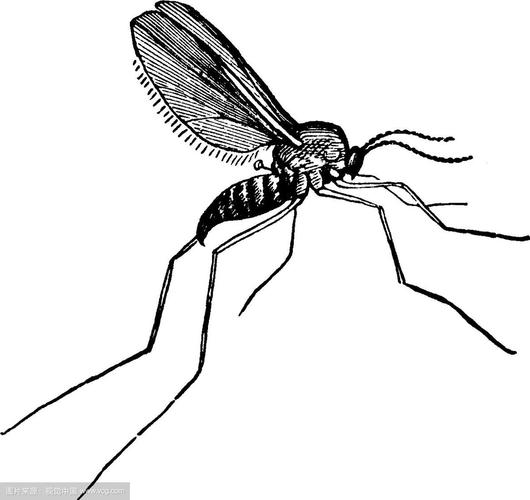Cecidomyiidae: (1, 1, 530, 495)
